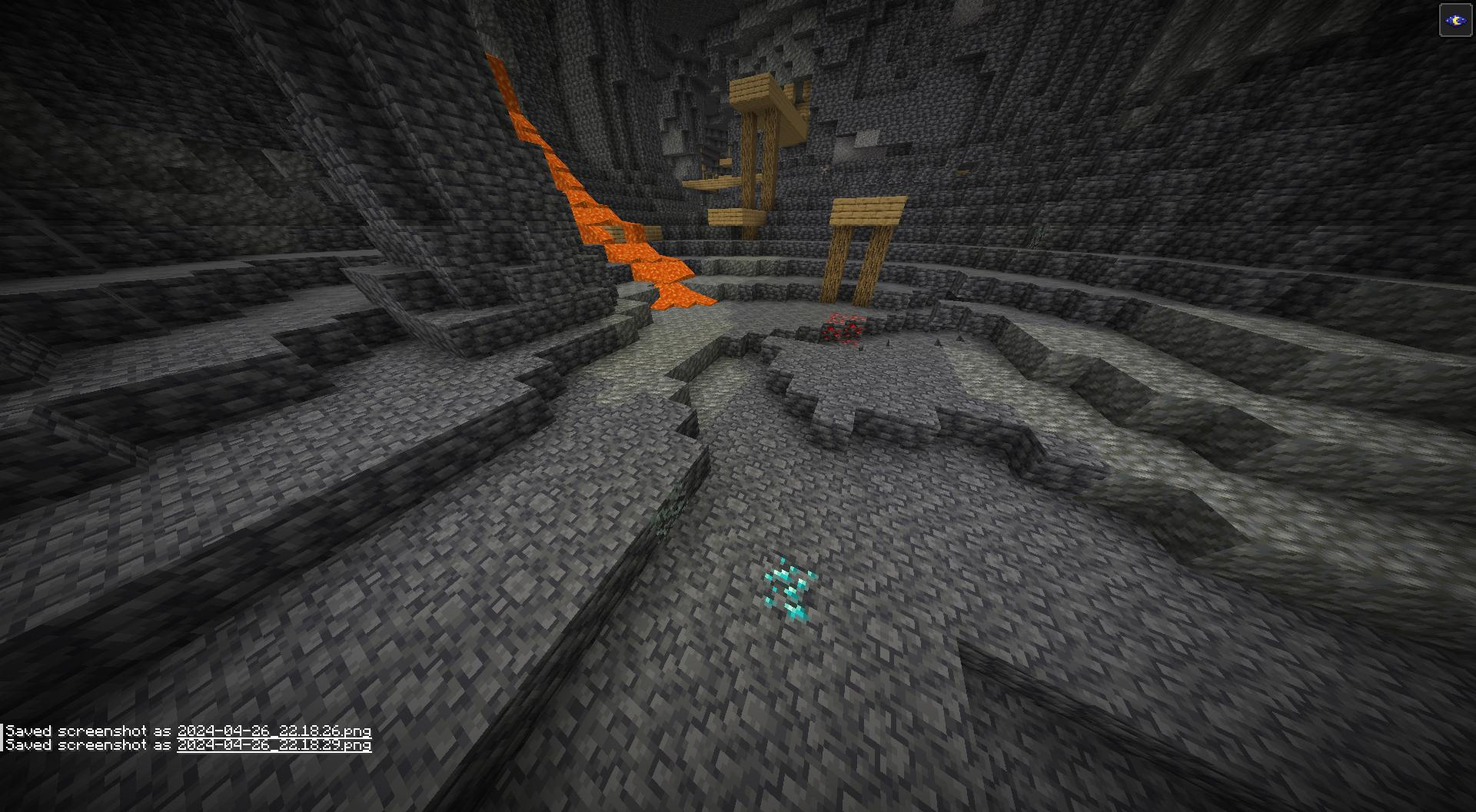diamond ore: (760, 560, 819, 625)
redstone ore: (825, 312, 868, 349)
